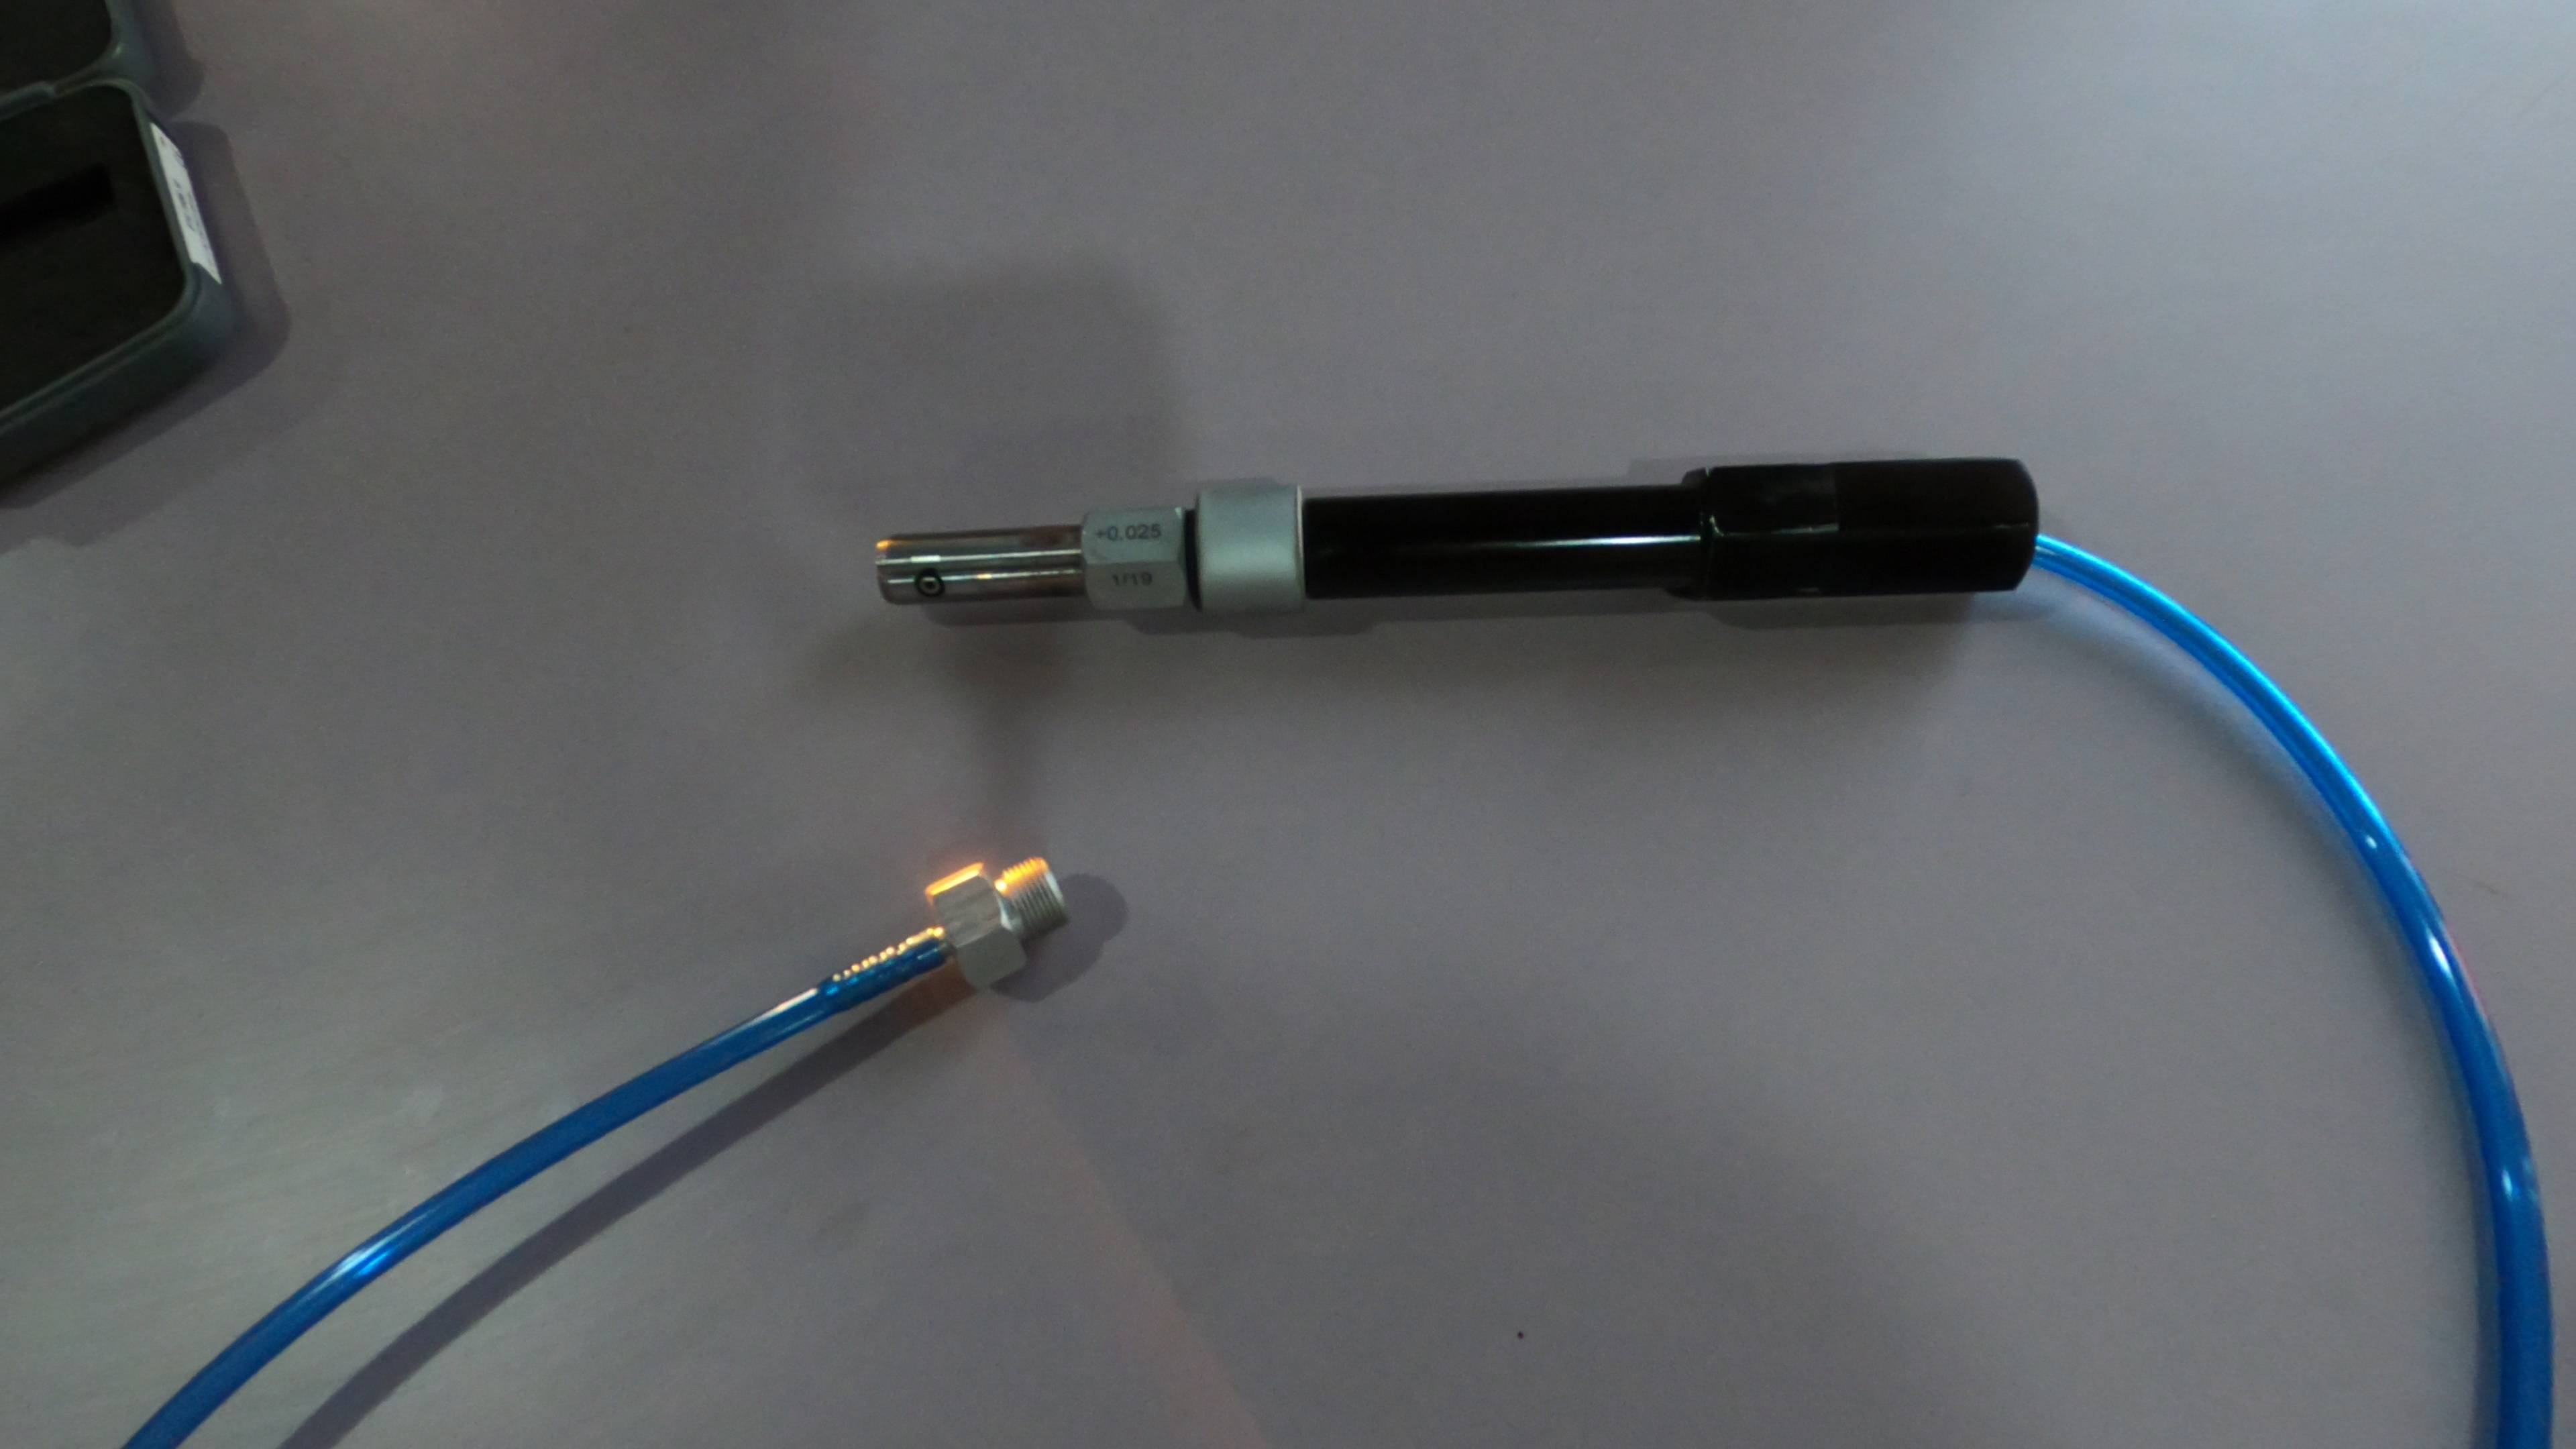air_gauge: (856, 455, 2051, 630)
